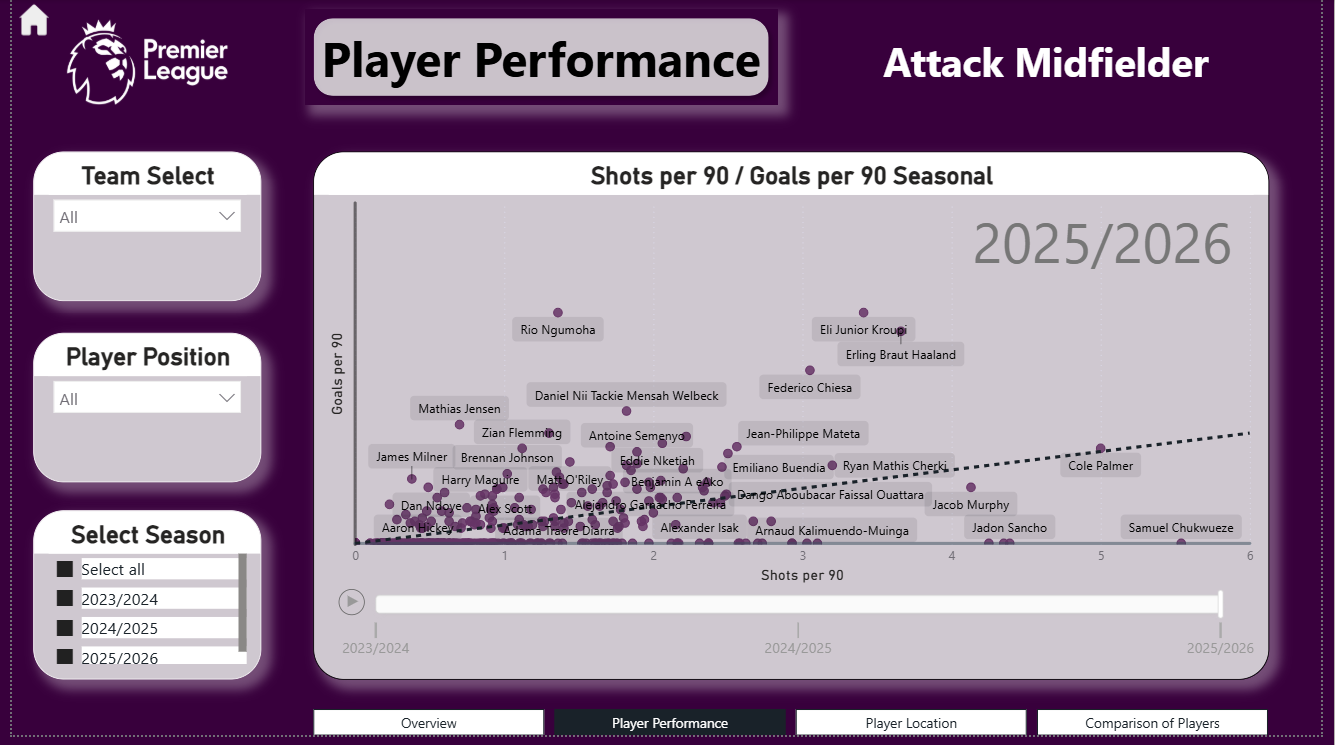

The page's visual inventory and layout, read from the dashboard file:
{"tool":"powerbi","page":{"name":"Player Performance","canvas":[1280,720],"ordinal":1},"visuals":[{"type":"image","box":[20.4,9.7,223.7,104.1],"z":0},{"type":"slicer","title":"Team Select","fields":{"Values":["Dim_TeamSeason.Club Name"]},"box":[21.2,149.6,223.3,146.5],"z":1000},{"type":"slicer","title":"Select Season","fields":{"Values":["Dim_TeamSeason.Season"]},"box":[21.2,500.2,223.3,165.7],"z":2000},{"type":"slicer","title":"Player Position","fields":{"Values":["Dim_player.Primary Position"]},"box":[20.2,326.4,223.3,146.5],"z":3000},{"type":"card","fields":{"Values":["Min(Dim_player.Primary Position)"]},"box":[741.7,21.2,538.6,79.8],"z":4000},{"type":"shape","box":[286,10,463,94],"z":5000},{"type":"pageNavigator","box":[295,694,935,26],"z":6000},{"type":"scatterChart","title":"Shots per 90 / Goals per 90 Seasonal","fields":{"Category":["Dim_player.Player Name"],"Y":["Sum(Fact_Player_performance.Goals per 90)"],"Play":["Dim_TeamSeason.Season"],"X":["Sum(Fact_Player_performance.Shots per 90)"]},"box":[295,149,935,517],"z":7000},{"type":"image","box":[0,0,43,41],"z":8000}]}

Visuals, with their boxes in screenshot pixels (x1, y1, x2, y2), scaled from the page's 1280x720 canvas onto the 1335x745 screenshot:
image: x1=21 y1=10 x2=255 y2=118
"Team Select" slicer: x1=22 y1=155 x2=255 y2=306
"Select Season" slicer: x1=22 y1=518 x2=255 y2=689
"Player Position" slicer: x1=21 y1=338 x2=254 y2=489
card - Min(Dim_player.Primary Position): x1=774 y1=22 x2=1334 y2=105
shape: x1=298 y1=10 x2=781 y2=108
pageNavigator: x1=308 y1=718 x2=1283 y2=744
"Shots per 90 / Goals per 90 Seasonal" scatterChart: x1=308 y1=154 x2=1283 y2=689
image: x1=0 y1=0 x2=45 y2=42
